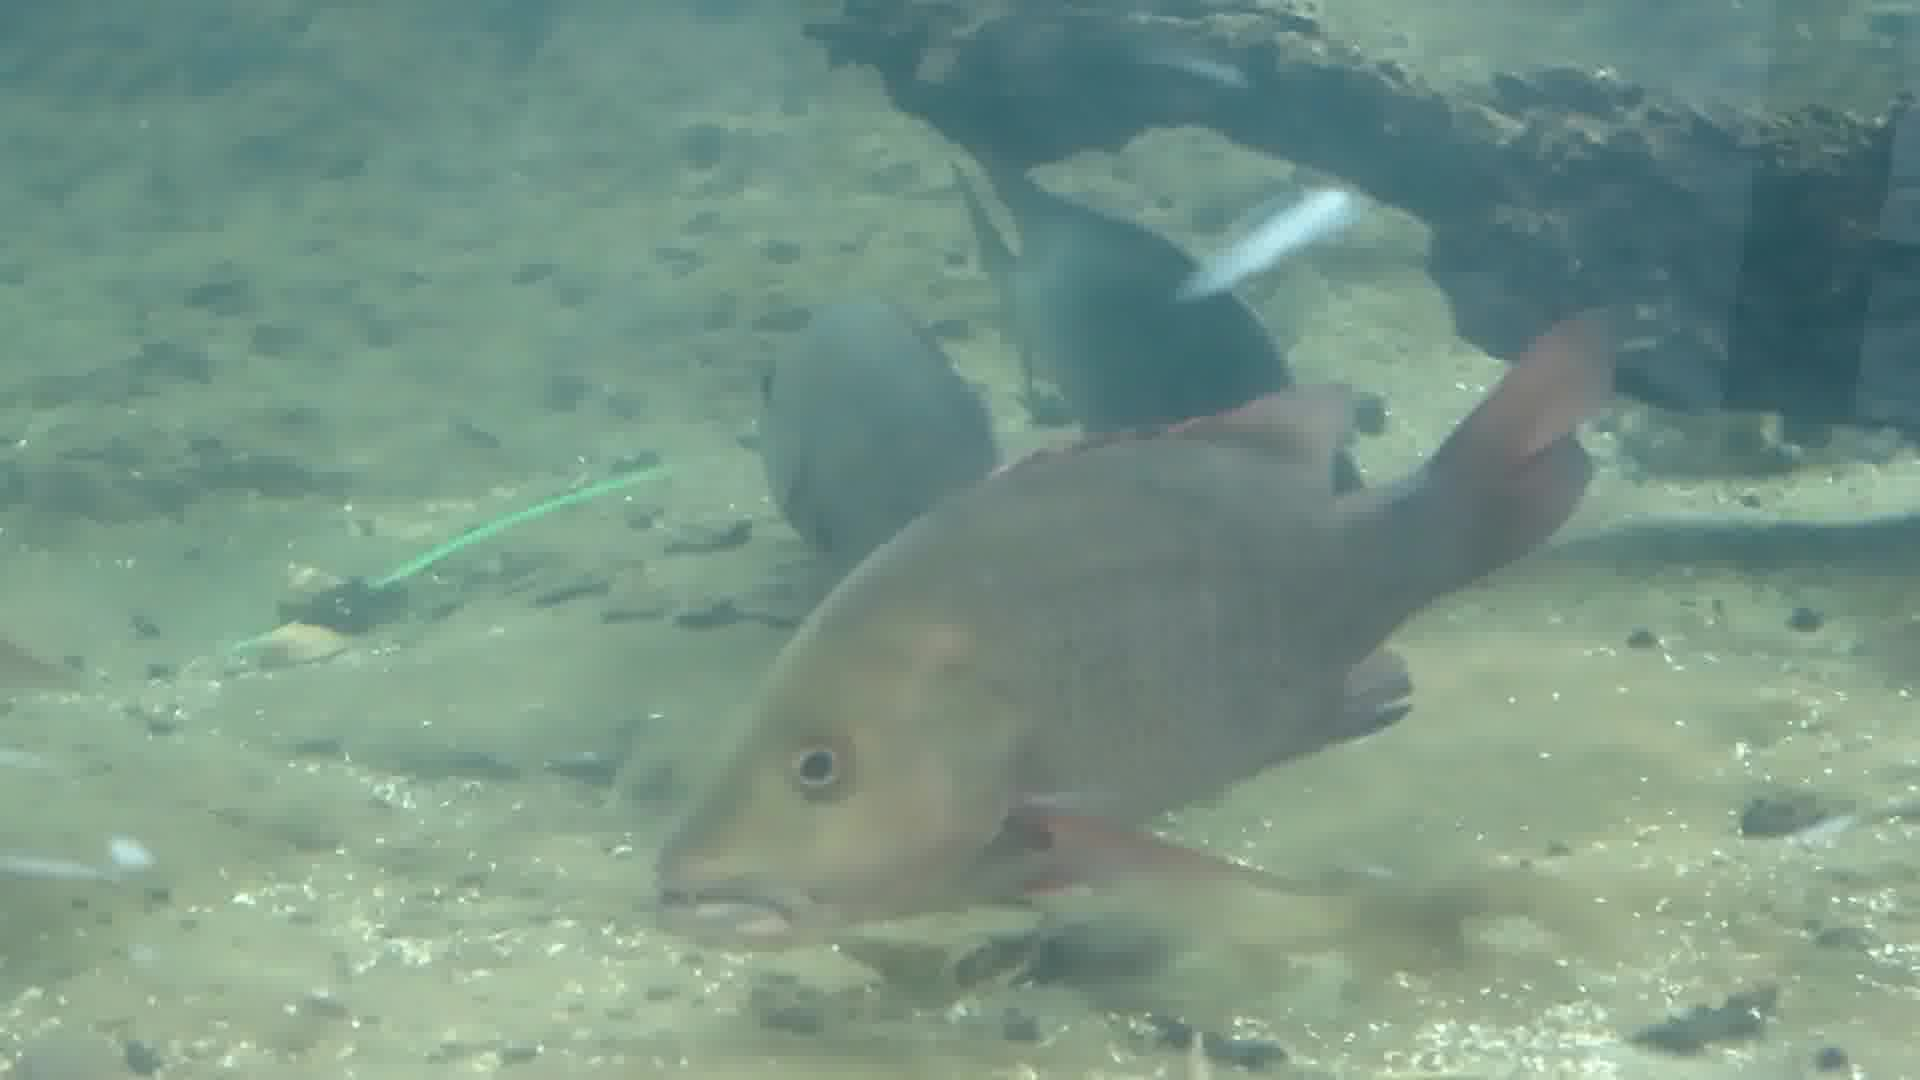Lutjanus argentimaculatus: (666, 422, 1422, 953)
